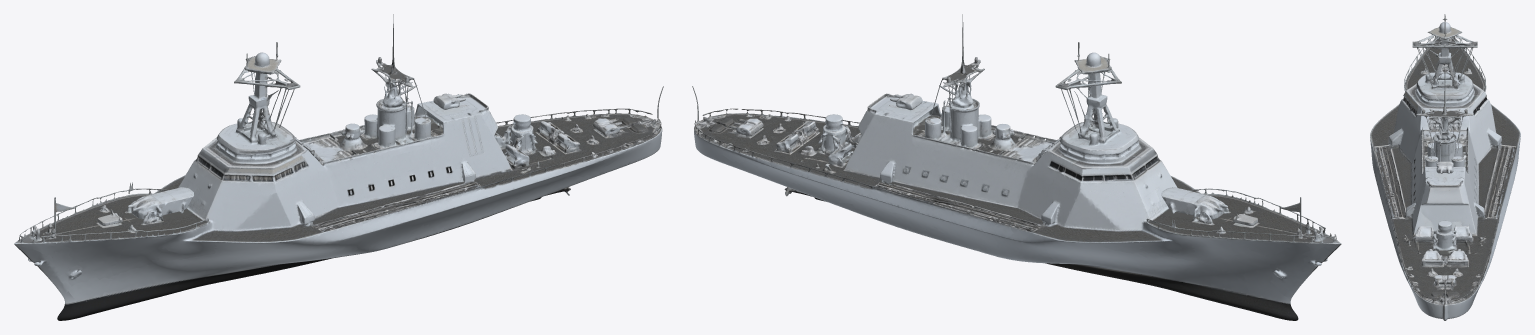
Rendered from bishop_white.glb.
3 views of the same model, side by side, from view 1: azimuth 30°, elevation 25°; view 2: azimuth 150°, elevation 25°; view 3: azimuth 270°, elevation 25° (orthographic). The views are drawn at different scales.
Parts seen in each view (by area): view 1: mesh_node; view 2: mesh_node; view 3: mesh_node.
Part boxes in pixels (<box>): mesh_node: <box>14,14,663,320</box>; mesh_node: <box>692,14,1341,320</box>; mesh_node: <box>1370,14,1520,320</box>.
Bounding box in the file's own units: 1.9 × 0.632 × 0.4848.
Materials: 1 (1 with a texture image).
